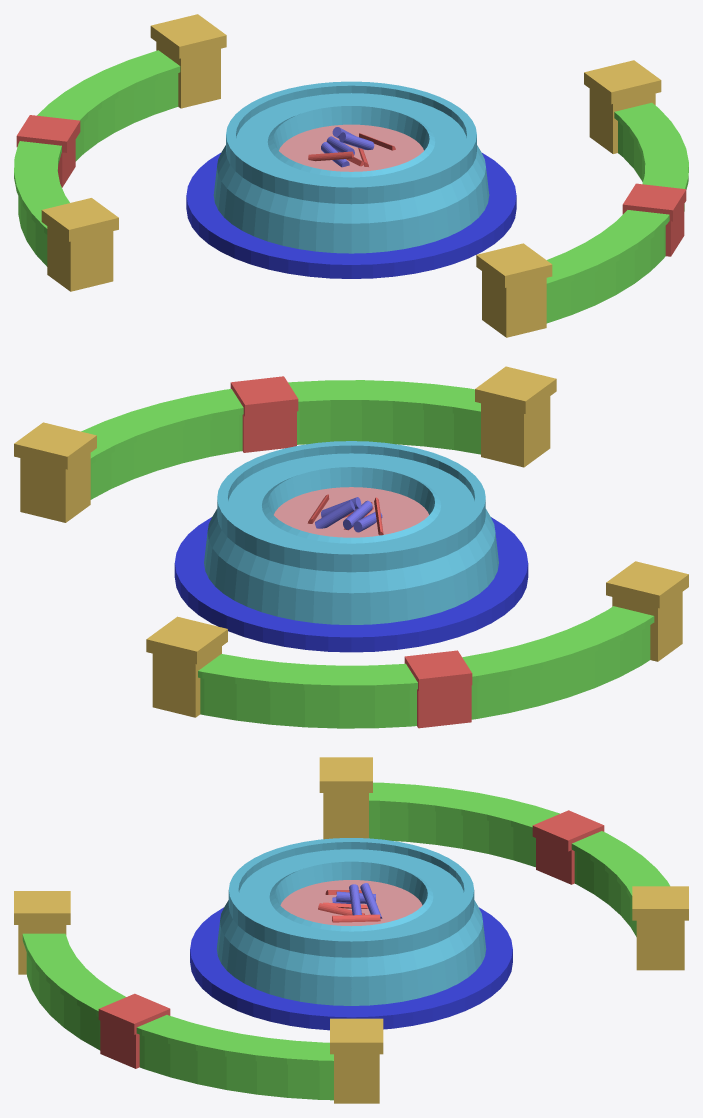
Rendered from auto_export.glb.
3 renders of one model, top to bottom at view 1: azimuth 30°, elevation 25°; view 2: azimuth 150°, elevation 25°; view 3: azimuth 270°, elevation 25°, orthographic. The views are drawn at different scales.
Visible parts, largest first — view 1: Cylinder.037, Cylinder.038, Cylinder.021, Cylinder.023, Cylinder.019, Cylinder.040, Cylinder.036, Cube.182, Cube.177, Cylinder.022, Cube.181, Cylinder.024 (+6 smaller); view 2: Cylinder.036, Cylinder.023, Cylinder.024, Cylinder.021, Cylinder.022, Cylinder.019, Cylinder.038, Cylinder.039, Cylinder.037, Cube.179, Cube.177, Cube.181 (+6 smaller); view 3: Cylinder.022, Cylinder.019, Cylinder.038, Cylinder.024, Cylinder.021, Cylinder.036, Cylinder.037, Cylinder.023, Cylinder.041, Cylinder.025, Cube.181, Cube.179 (+7 smaller).
Part boxes in pixels (box(x1,y1,x2,y2)): Cylinder.037: box(232, 155, 420, 253); Cylinder.038: box(390, 108, 489, 245); Cylinder.021: box(546, 210, 669, 323); Cylinder.023: box(37, 50, 180, 161); Cylinder.019: box(289, 81, 459, 139); Cylinder.040: box(208, 224, 433, 278); Cylinder.036: box(213, 88, 314, 223); Cube.182: box(41, 198, 118, 291); Cube.177: box(476, 243, 552, 337); Cylinder.022: box(614, 102, 688, 211); Cube.181: box(150, 14, 226, 108); Cylinder.024: box(14, 141, 69, 266); Cylinder.036: box(277, 520, 479, 624); Cylinder.023: box(198, 654, 417, 728); Cylinder.024: box(462, 606, 654, 719); Cylinder.021: box(288, 380, 480, 454); Cylinder.022: box(81, 389, 243, 499); Cylinder.019: box(204, 469, 309, 616); Cylinder.038: box(235, 441, 417, 503); Cylinder.039: box(263, 594, 504, 652); Cylinder.037: box(391, 448, 498, 593); Cube.179: box(14, 422, 96, 522); Cube.177: box(475, 366, 556, 467); Cube.181: box(146, 616, 227, 717); Cylinder.022: box(136, 1015, 333, 1100); Cylinder.019: box(351, 889, 486, 1005); Cylinder.038: box(216, 889, 351, 1005); Cylinder.024: box(369, 782, 559, 867); Cylinder.021: box(22, 933, 125, 1050); Cylinder.036: box(351, 838, 482, 920); Cylinder.037: box(220, 838, 351, 920); Cylinder.023: box(571, 831, 669, 936); Cylinder.041: box(190, 949, 351, 1030); Cylinder.025: box(351, 949, 512, 1029); Cube.181: box(632, 886, 688, 970); Cube.179: box(330, 1018, 383, 1103).
Bounding box in the file's own units: 6.69 × 0.8408 × 6.69.
